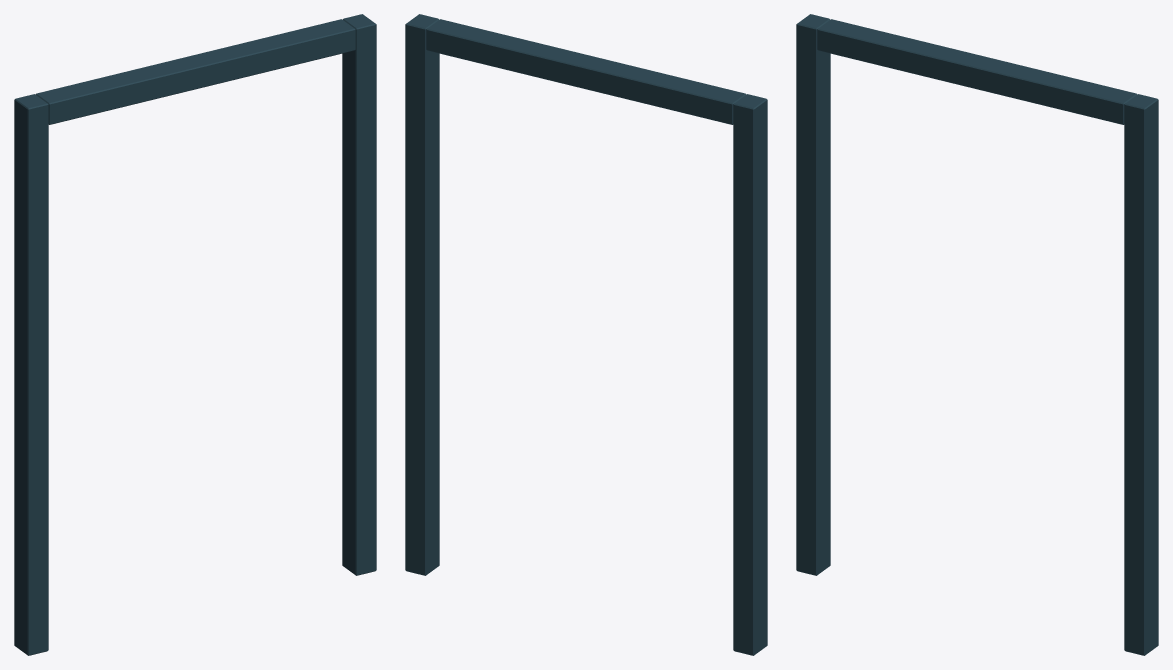
Rendered from entry-2m.glb.
3 renders of one model, left to right at view 1: azimuth 30°, elevation 25°; view 2: azimuth 150°, elevation 25°; view 3: azimuth 330°, elevation 25°, orthographic.
Parts seen in each view (by area): view 1: entry-2m; view 2: entry-2m; view 3: entry-2m.
Part boxes in pixels (<box>): entry-2m: <box>14,14,376,655</box>; entry-2m: <box>405,14,767,655</box>; entry-2m: <box>796,14,1158,655</box>.
Size of the model in its own units: 2 by 3 by 0.14.
